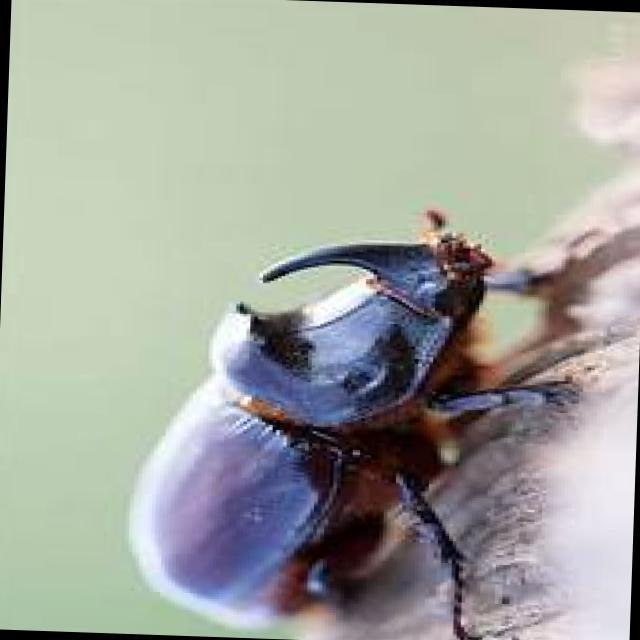Rhino-beetle: (128, 199, 510, 611)
